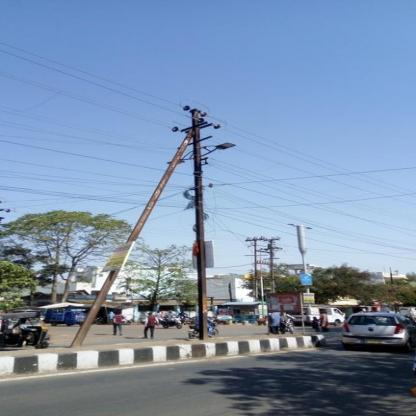Electrical Pole: (161, 98, 246, 340)
